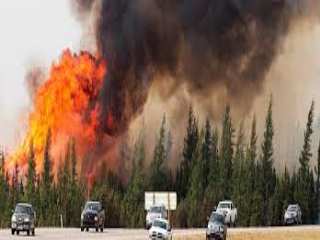fire: (18, 51, 103, 179)
smoke: (80, 1, 293, 127)
